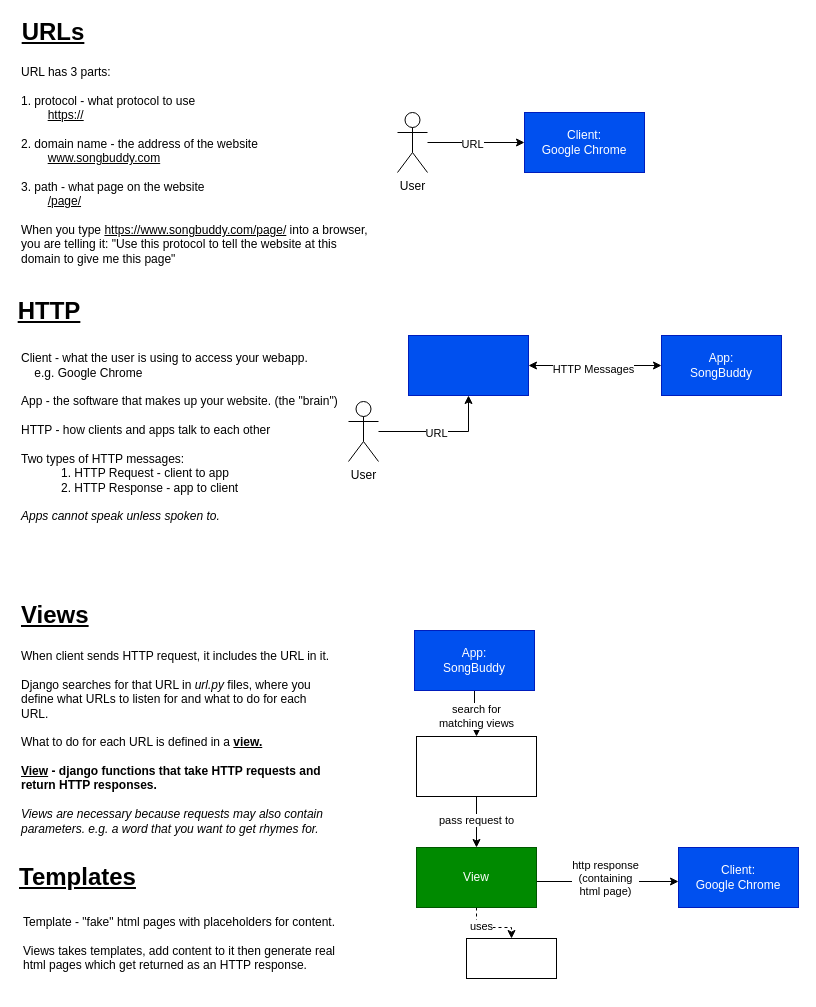
The diagram is 816 pixels wide and 1007 high, and some of its shapes have lost their labels. Here are the shapes that lost their labels. From the top down, the centre of each, then its label:
At pixel 468 365: "Client".
At pixel 476 766: "urls.py".
At pixel 511 958: "Template".
